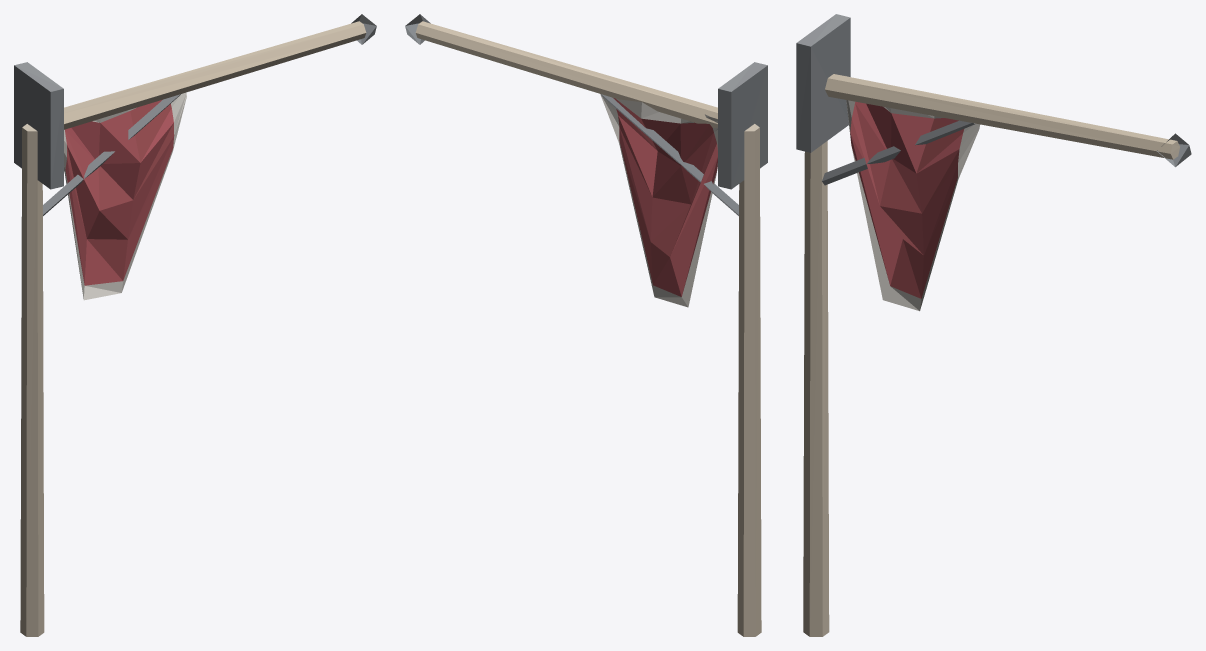
The model's file is flag.pennant.lingqi__pole.horizontal.xiecheng__armHang.glb.
3 renders of one model, left to right at view 1: azimuth 30°, elevation 25°; view 2: azimuth 150°, elevation 25°; view 3: azimuth 330°, elevation 25°, orthographic. The views are drawn at different scales.
Parts seen in each view (by area): view 1: flag.pennant.lingqi; view 2: flag.pennant.lingqi; view 3: flag.pennant.lingqi.
Boxes of the visible parts, x1,y1,x2,y2 form: flag.pennant.lingqi: [14, 14, 376, 636]; flag.pennant.lingqi: [405, 14, 767, 636]; flag.pennant.lingqi: [796, 14, 1191, 636].
Size of the model in its own units: 2.12 by 3.18 by 0.38.
